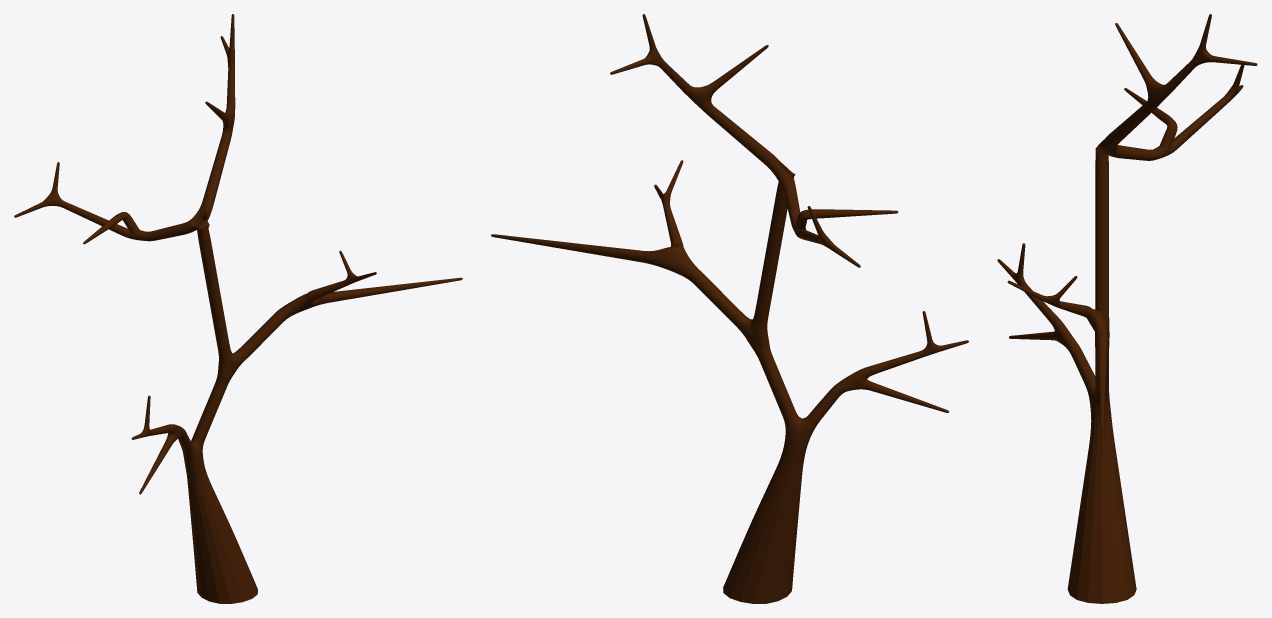
The model's file is Tree5.fbx.
3 views of the same model, side by side, from view 1: azimuth 30°, elevation 25°; view 2: azimuth 150°, elevation 25°; view 3: azimuth 270°, elevation 25° (orthographic). The views are drawn at different scales.
Parts seen in each view (by area): view 1: Tree2; view 2: Tree2; view 3: Tree2.
Part boxes in pixels (box(x1,y1,x2,y2)): Tree2: box(14, 14, 462, 603); Tree2: box(491, 14, 968, 603); Tree2: box(997, 14, 1257, 603).
Size of the model in its own units: 1986 by 2595 by 1011.
